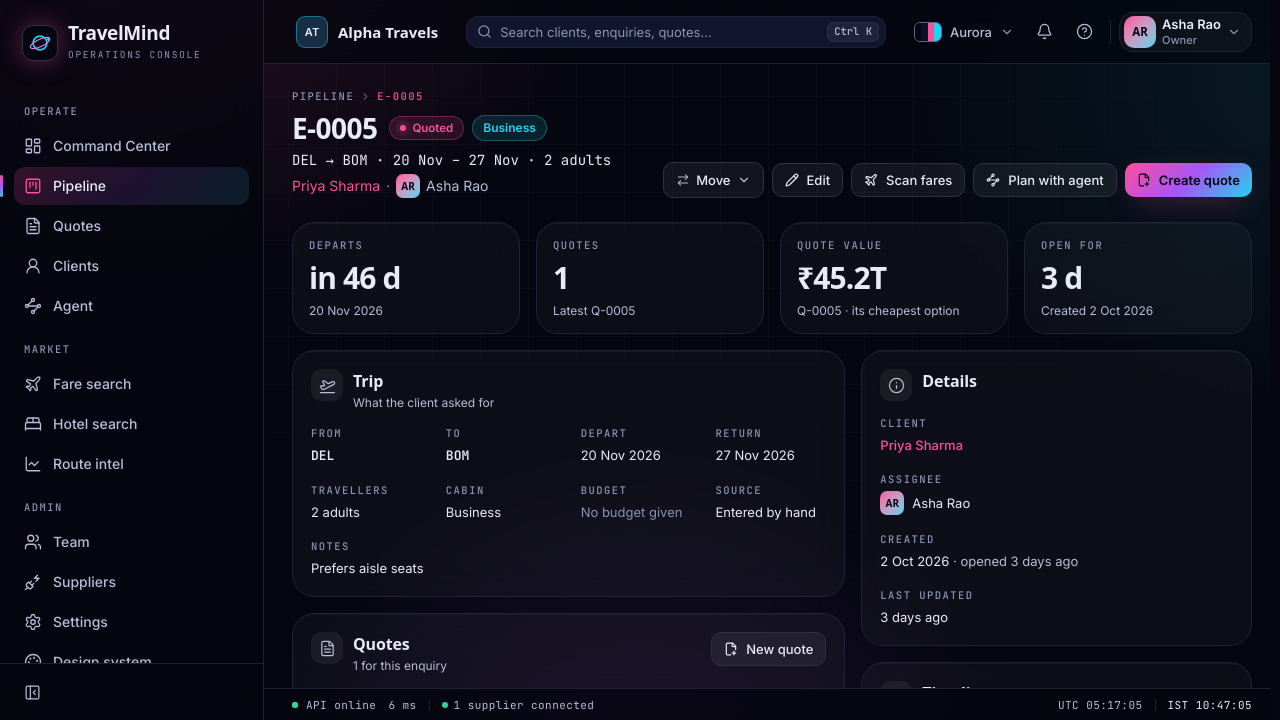
Edit saves only the changed fields
Click the button "Edit" at (807, 180), box top-left (772, 163), bottom-right (843, 197)
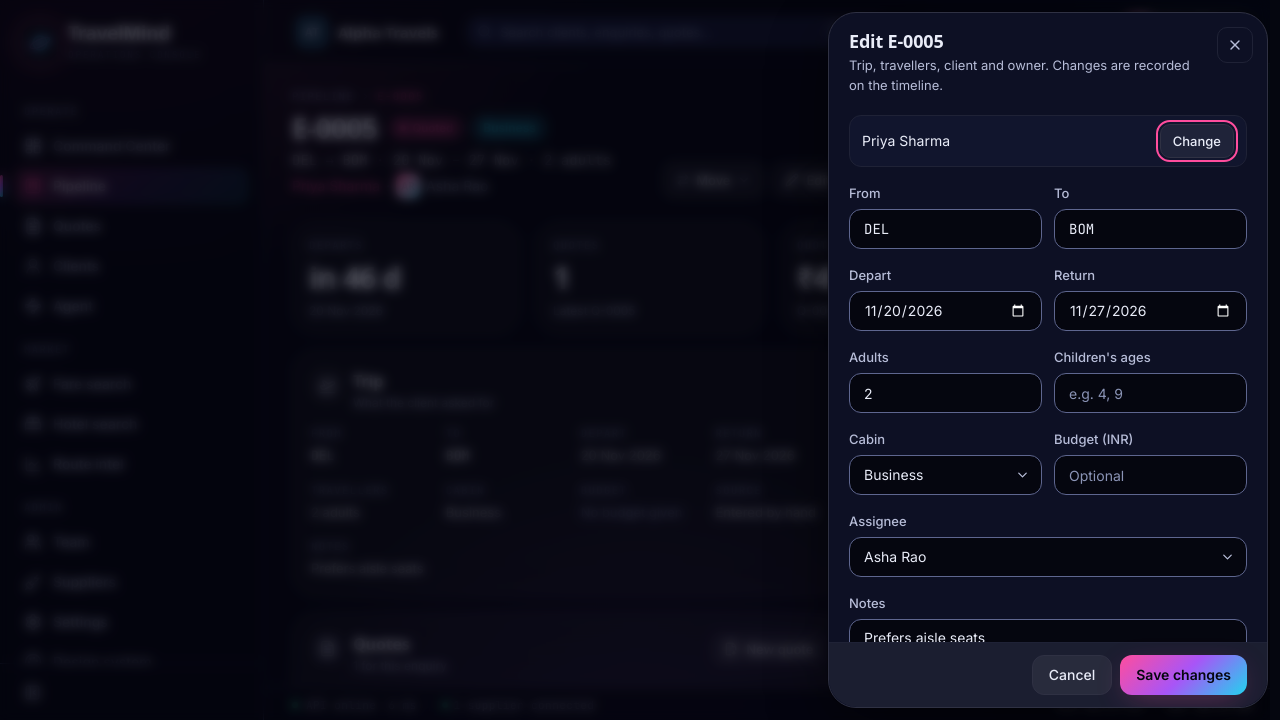
Replace the text in the number field labelled "Adults" with "3" at (946, 393), box top-left (849, 373), bottom-right (1042, 413)
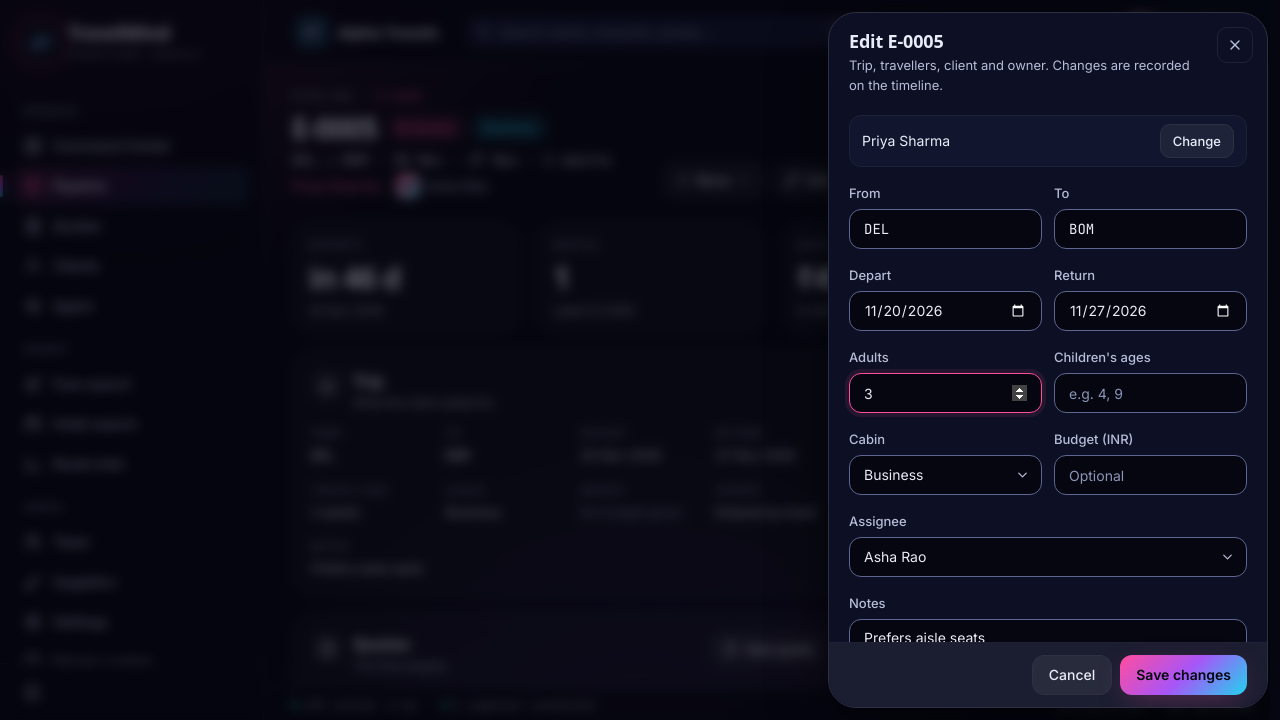
Select "Ravi Kumar" in the dropdown labelled "Assignee" at (1048, 557), box top-left (849, 537), bottom-right (1247, 577)
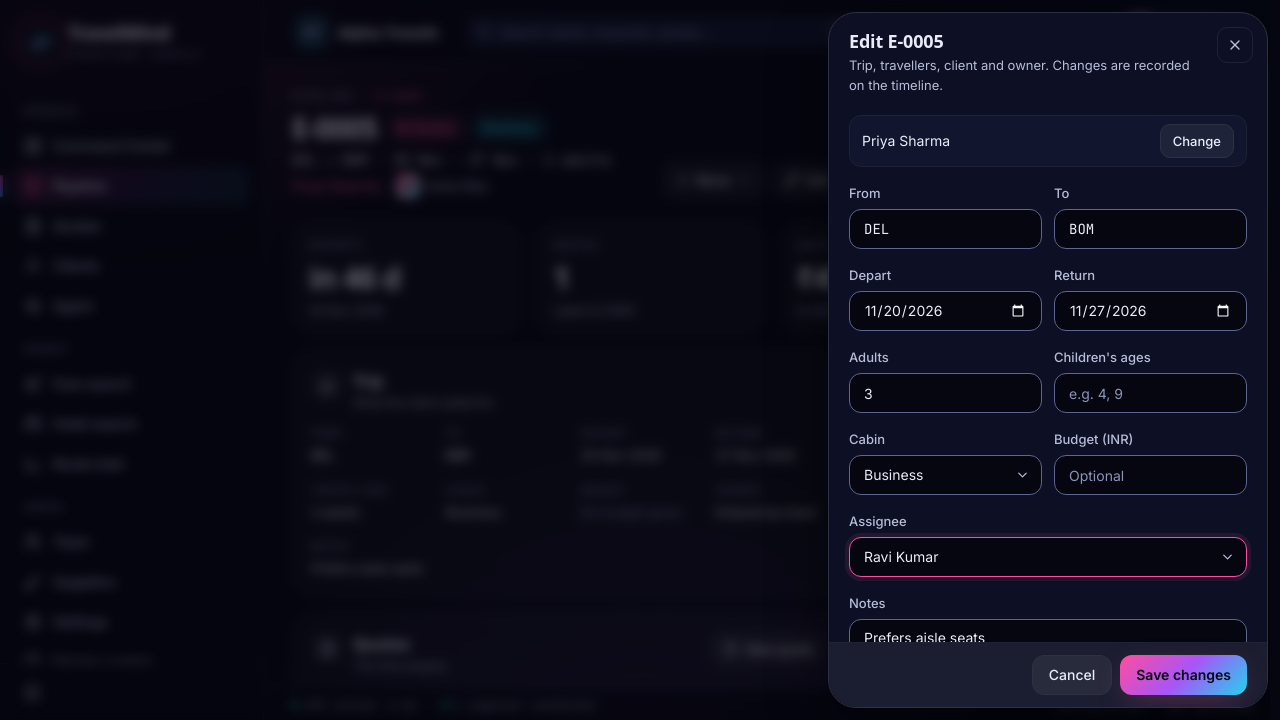
Click the button "Save changes" at (1184, 675), box top-left (1120, 655), bottom-right (1247, 695)
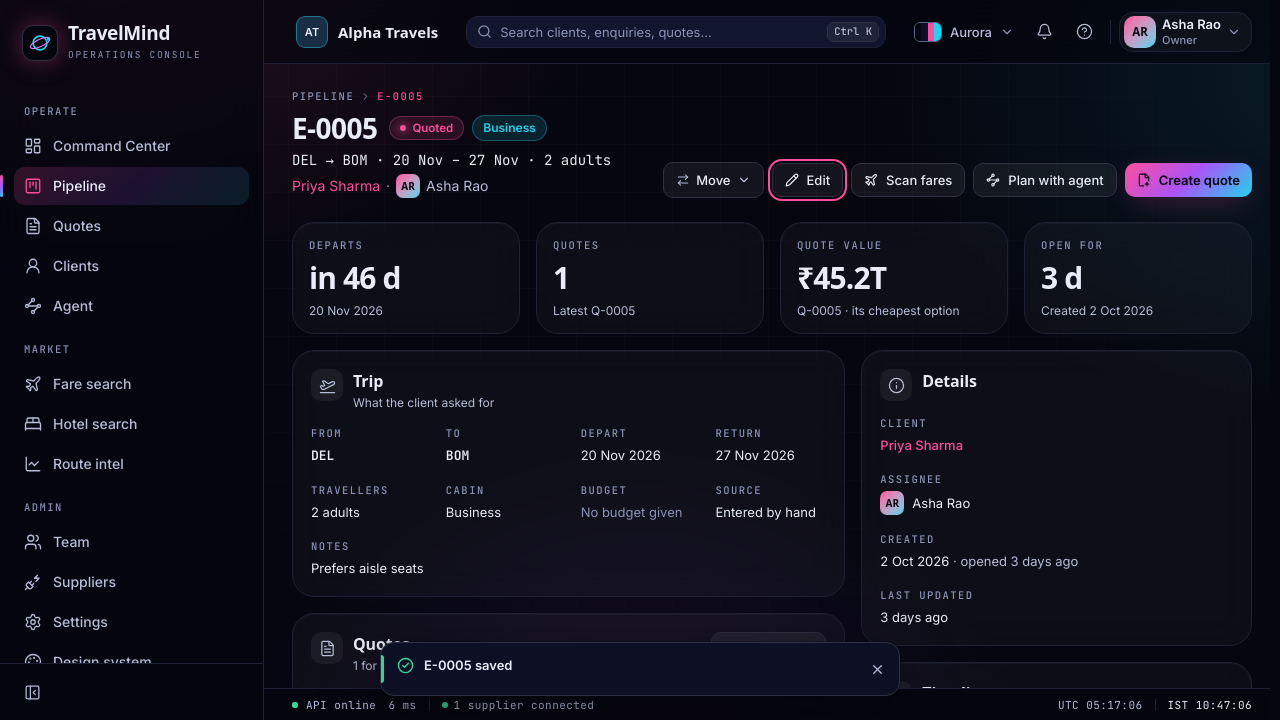
Check: the dialog is gone
